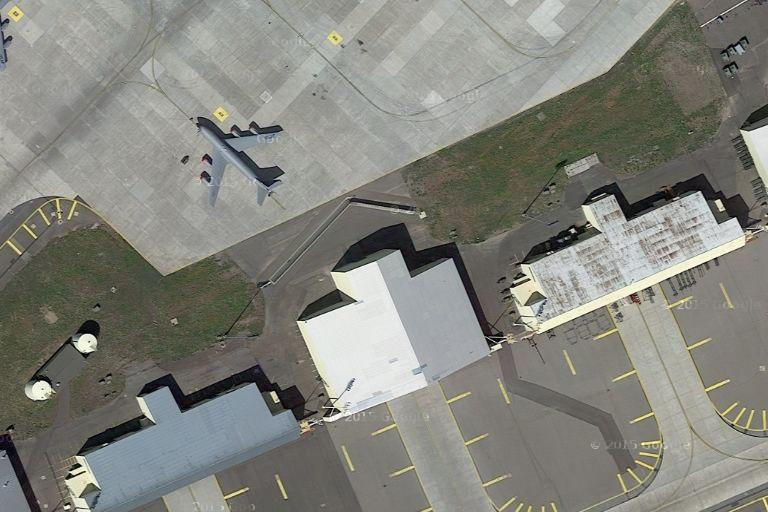KC-135: (191, 115, 287, 211)
